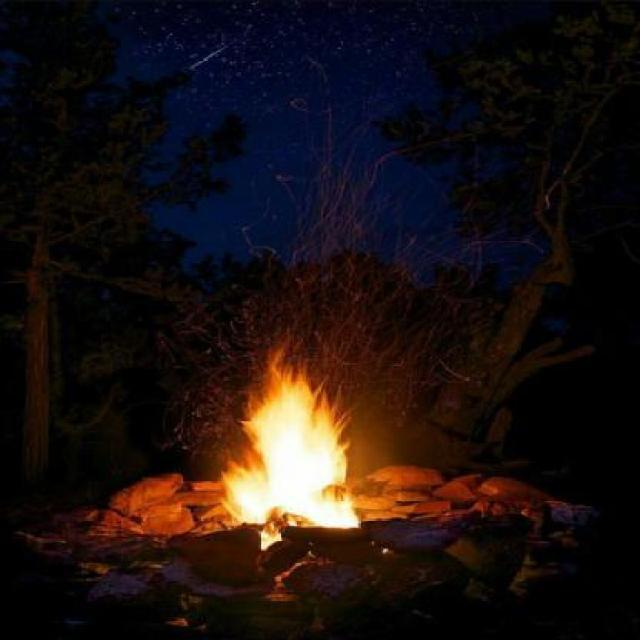Fire: (220, 343, 360, 530)
